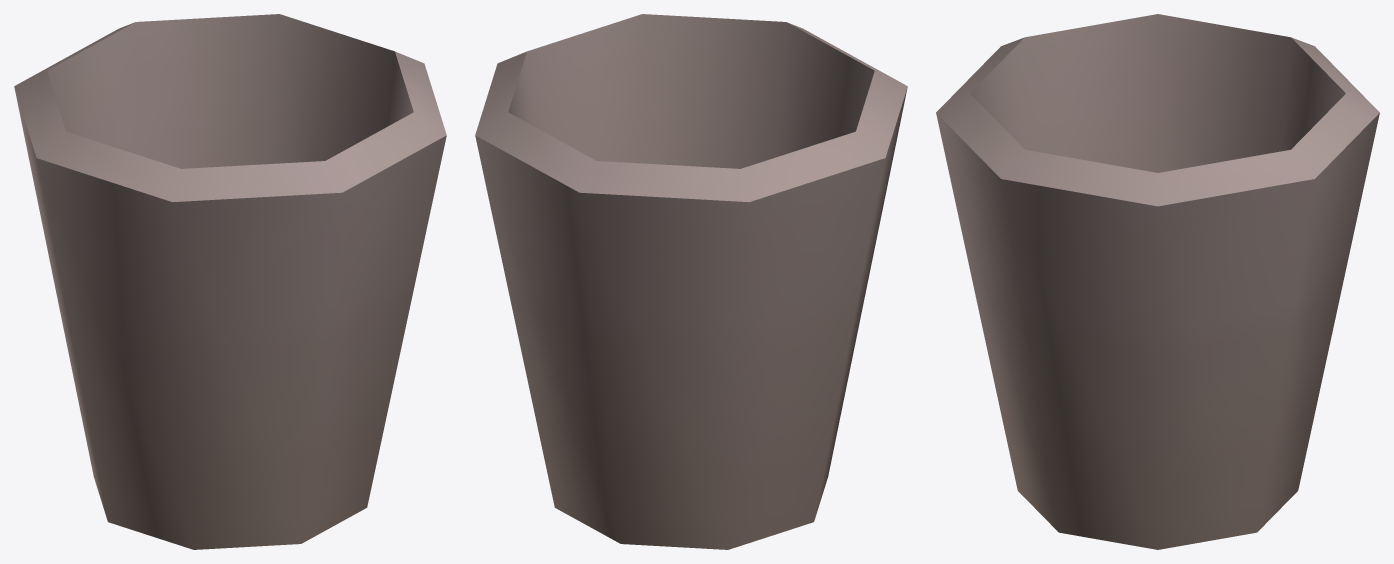
File: SM_Glass_01.fbx
3 views of the same model, side by side, from view 1: azimuth 30°, elevation 25°; view 2: azimuth 150°, elevation 25°; view 3: azimuth 270°, elevation 25° (orthographic).
Parts seen in each view (by area): view 1: SM_Glass_01; view 2: SM_Glass_01; view 3: SM_Glass_01.
Part boxes in pixels (<box>): SM_Glass_01: <box>14,14,446,549</box>; SM_Glass_01: <box>475,14,907,549</box>; SM_Glass_01: <box>936,14,1379,549</box>.
Bounding box in the file's own units: 0.2241 × 0.2212 × 0.2241.
